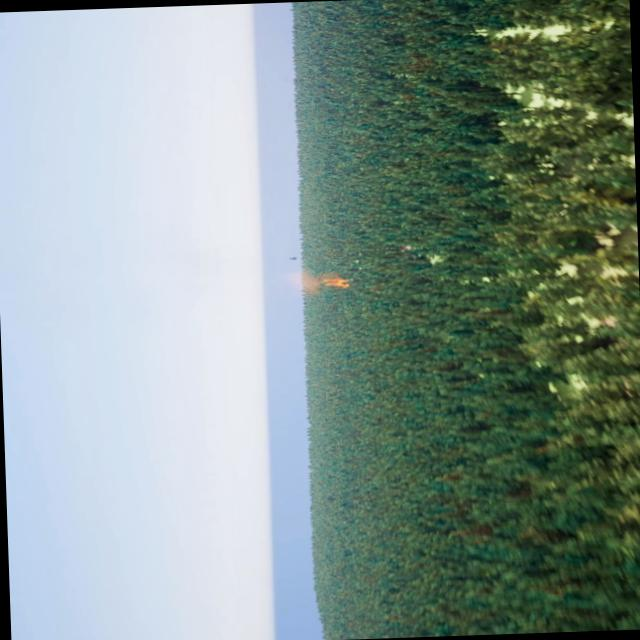smoke: (290, 270, 351, 292)
